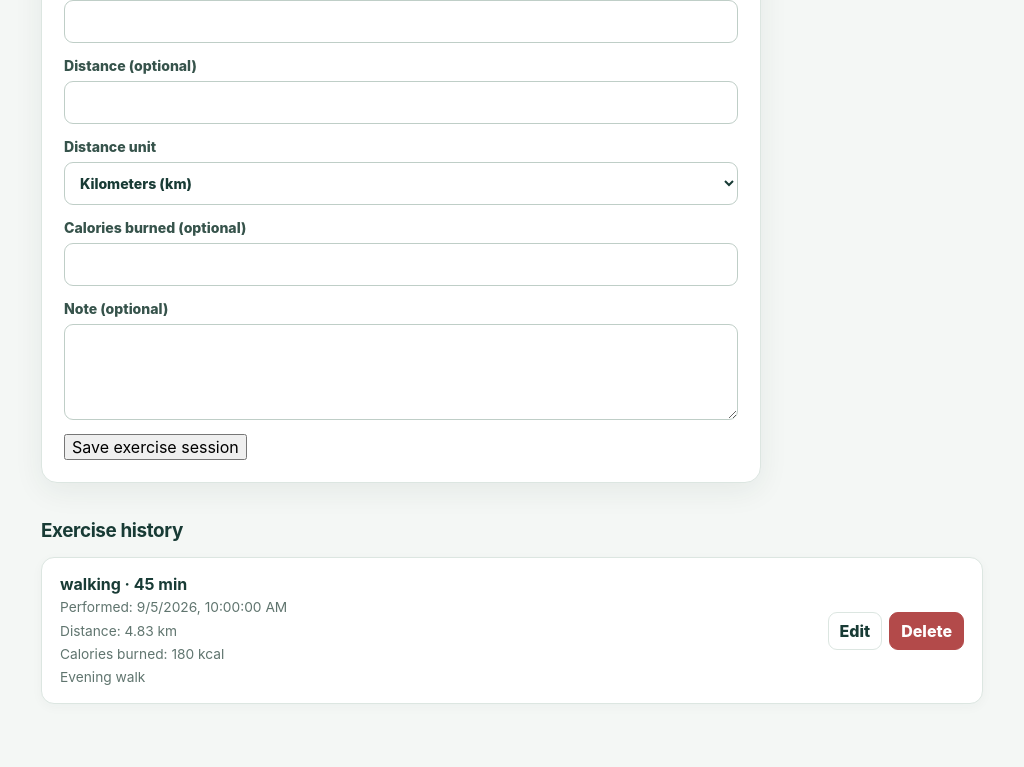
Test: ExercisePage › loads a session for editing
(page scrolled)
Expected: the text "walking · 45 min" is shown, left=60, top=574, right=187, bottom=594
Click the button "Edit": (855, 631) left=828, top=612, right=882, bottom=650
(page scrolled)
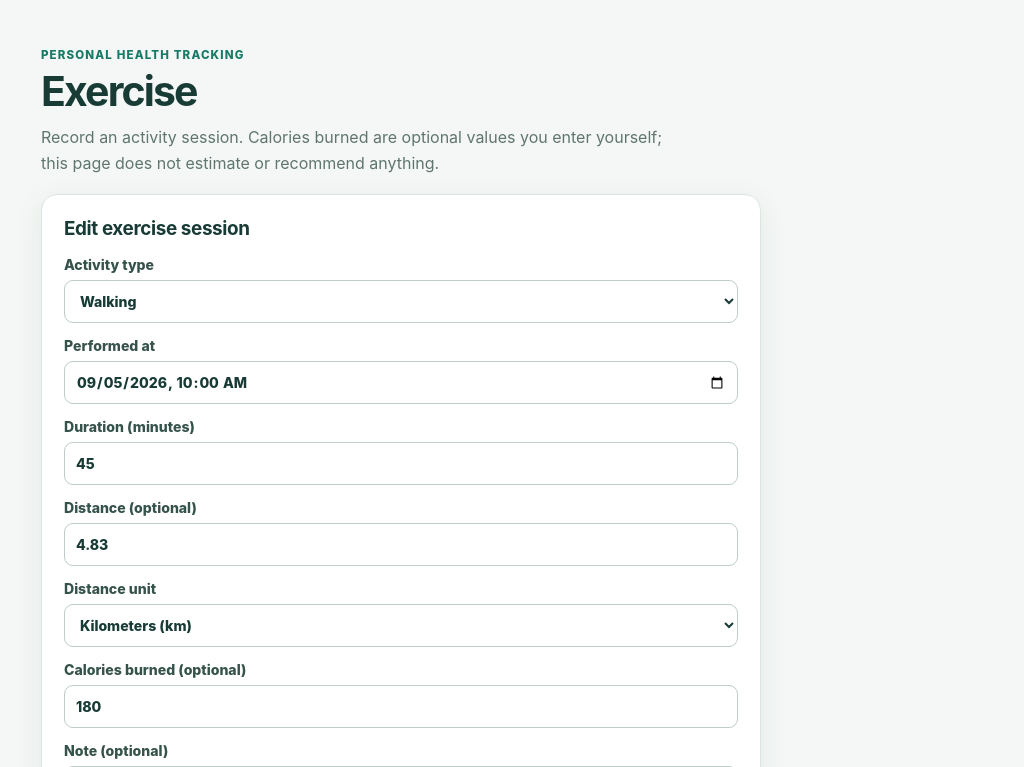
Expected: the heading "Edit exercise session" is shown, left=64, top=217, right=250, bottom=240
